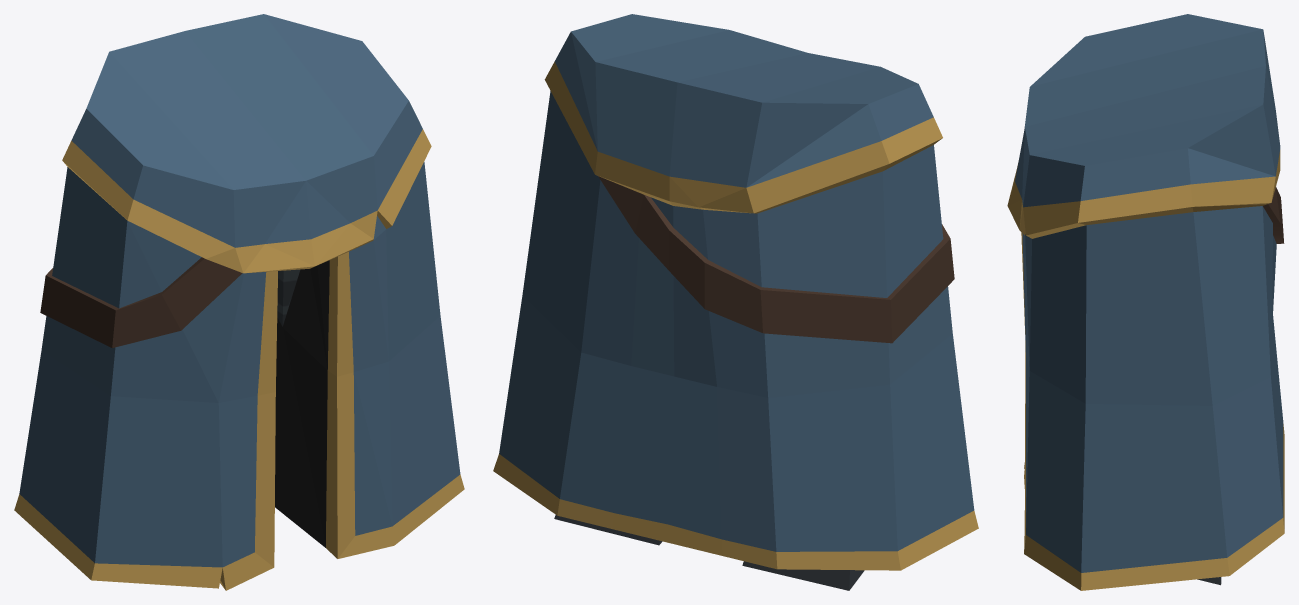
The model's file is Chr_Hips_Male_09_Static.fbx.
3 views of the same model, side by side, from view 1: azimuth 30°, elevation 25°; view 2: azimuth 150°, elevation 25°; view 3: azimuth 270°, elevation 25° (orthographic). The views are drawn at different scales.
Visible parts, largest first — view 1: Chr_Hips_Male_09_Static; view 2: Chr_Hips_Male_09_Static; view 3: Chr_Hips_Male_09_Static.
Boxes of the visible parts, x1=… form: Chr_Hips_Male_09_Static: x1=14, y1=14, x2=464, y2=590; Chr_Hips_Male_09_Static: x1=493, y1=14, x2=978, y2=590; Chr_Hips_Male_09_Static: x1=1007, y1=14, x2=1284, y2=590.
Bounding box in the file's own units: 0.4828 × 0.5545 × 0.3076.
